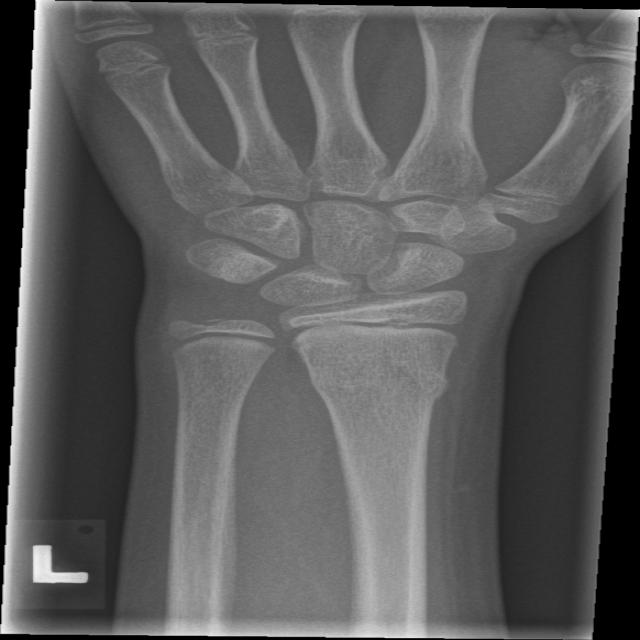radius fracture: (397, 334, 472, 450)
